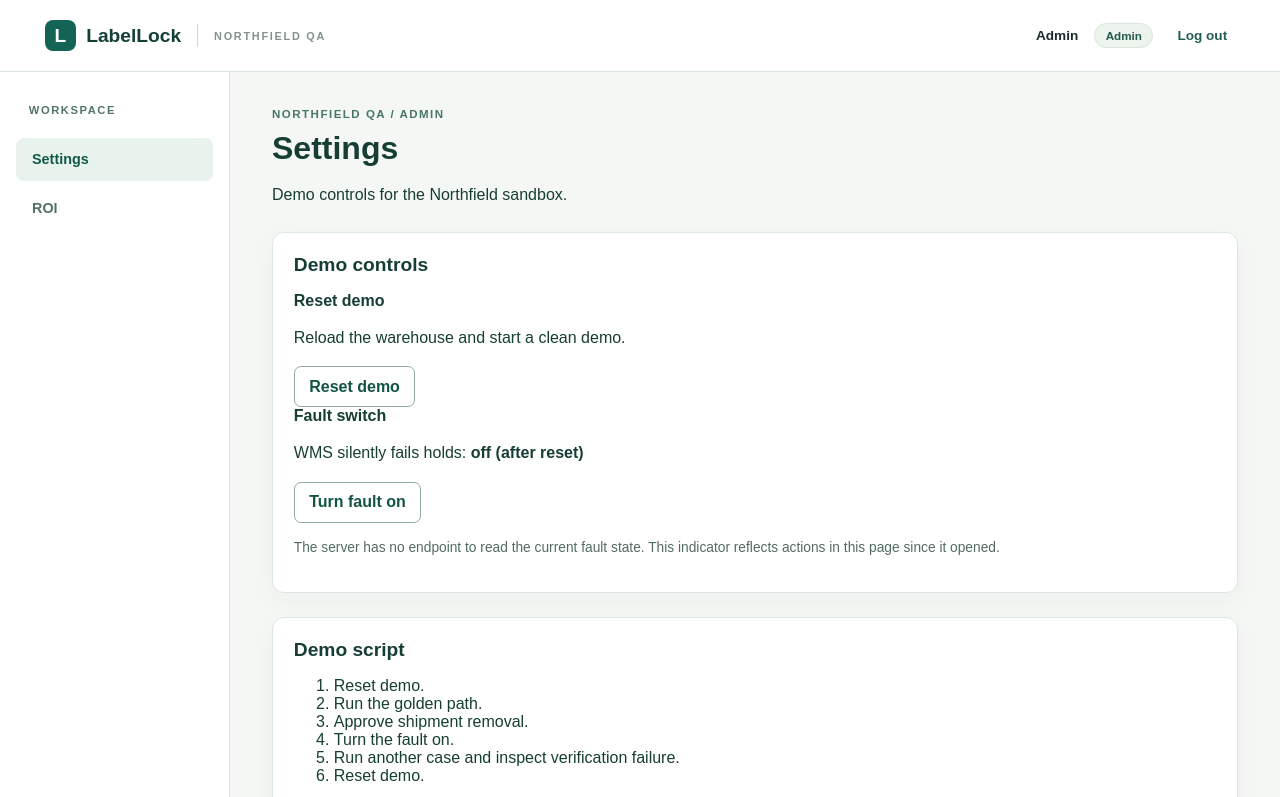
Test: demo settings › requires confirmation, supports cancel and clears fault on reset
Expected: the heading "Demo controls" is shown, [294,254,428,275]
Click the switch named "WMS silently fails holds". click: (358, 502)
box: [294,482,421,523]
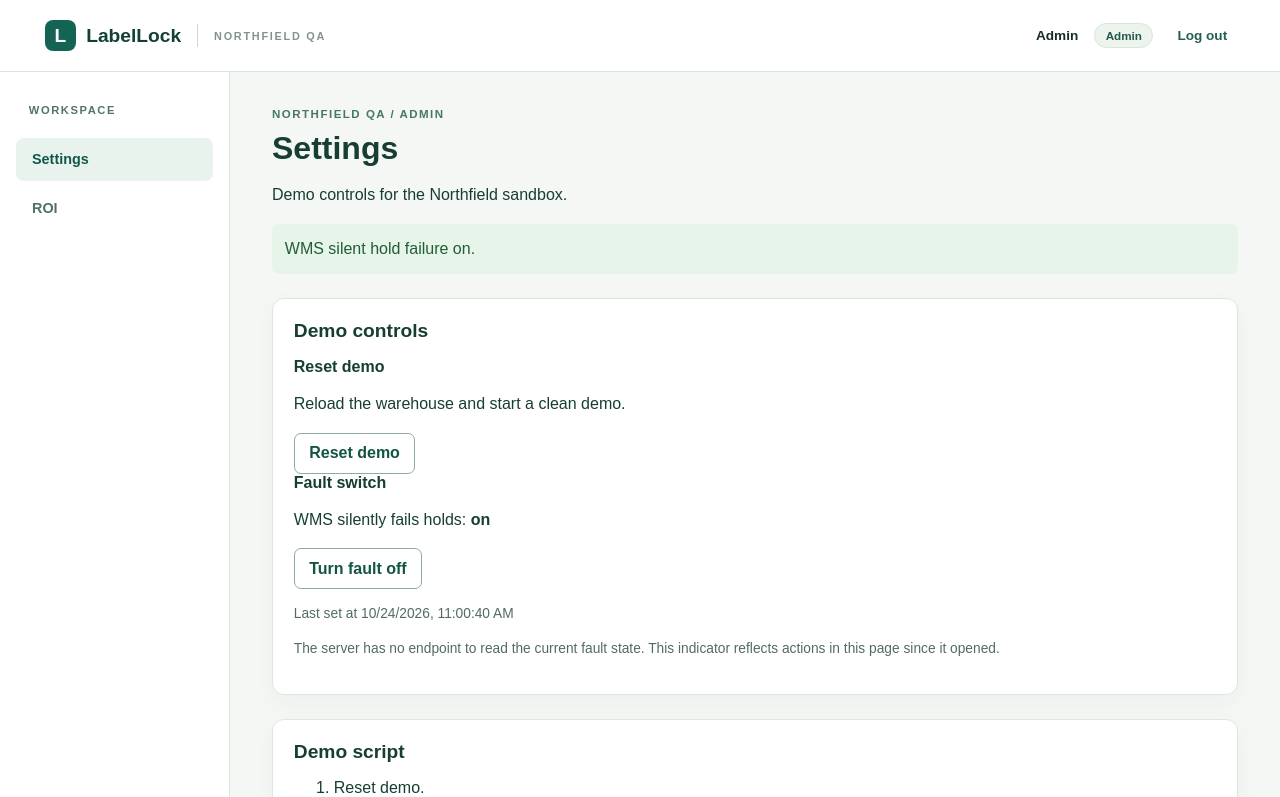
Now the text "WMS silent hold failure on." is shown, box [272,224,1238,274]
Click the button "Reset demo". click: (355, 453)
box: [294,433,415,474]
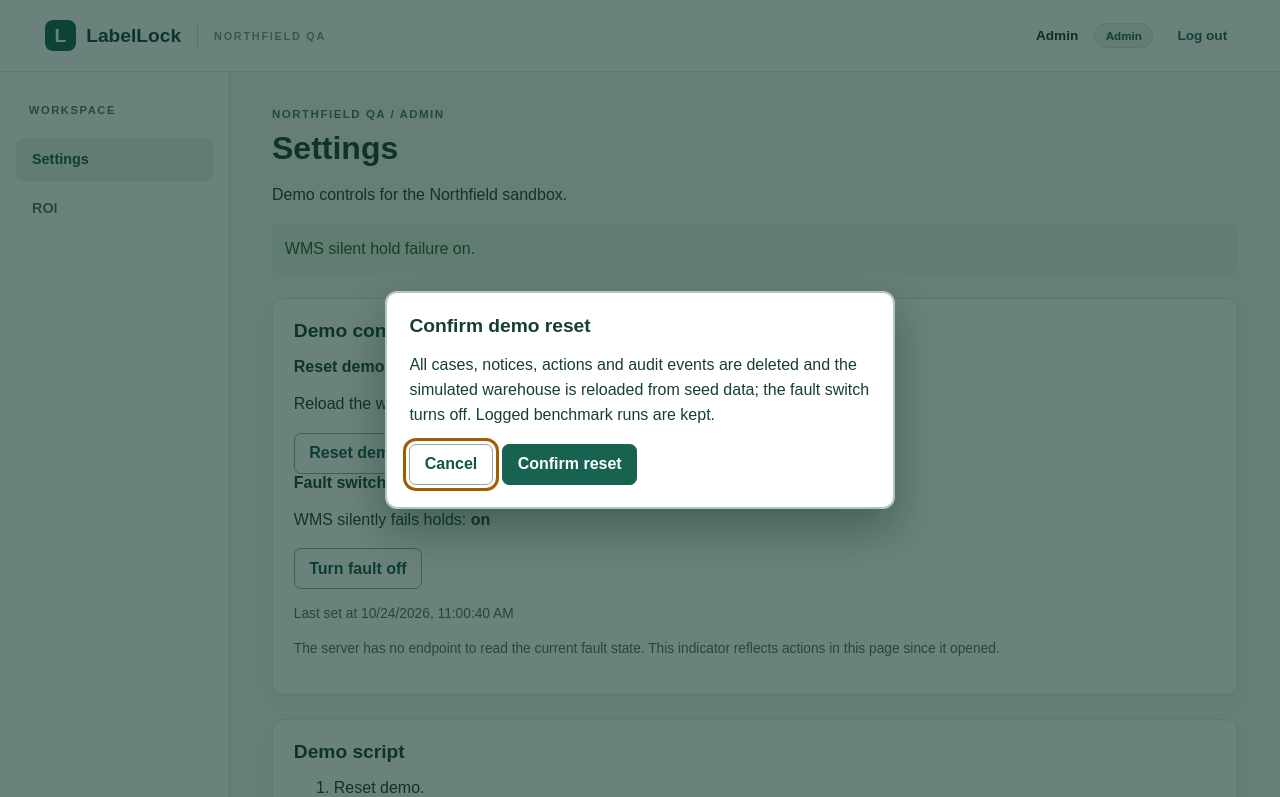
Now the dialog "Confirm demo reset" shows "All cases, notices, actions and audit events are deleted", box [409,356,869,423]
Click the button "Cancel". click: (451, 464)
box: [409,444,493,485]
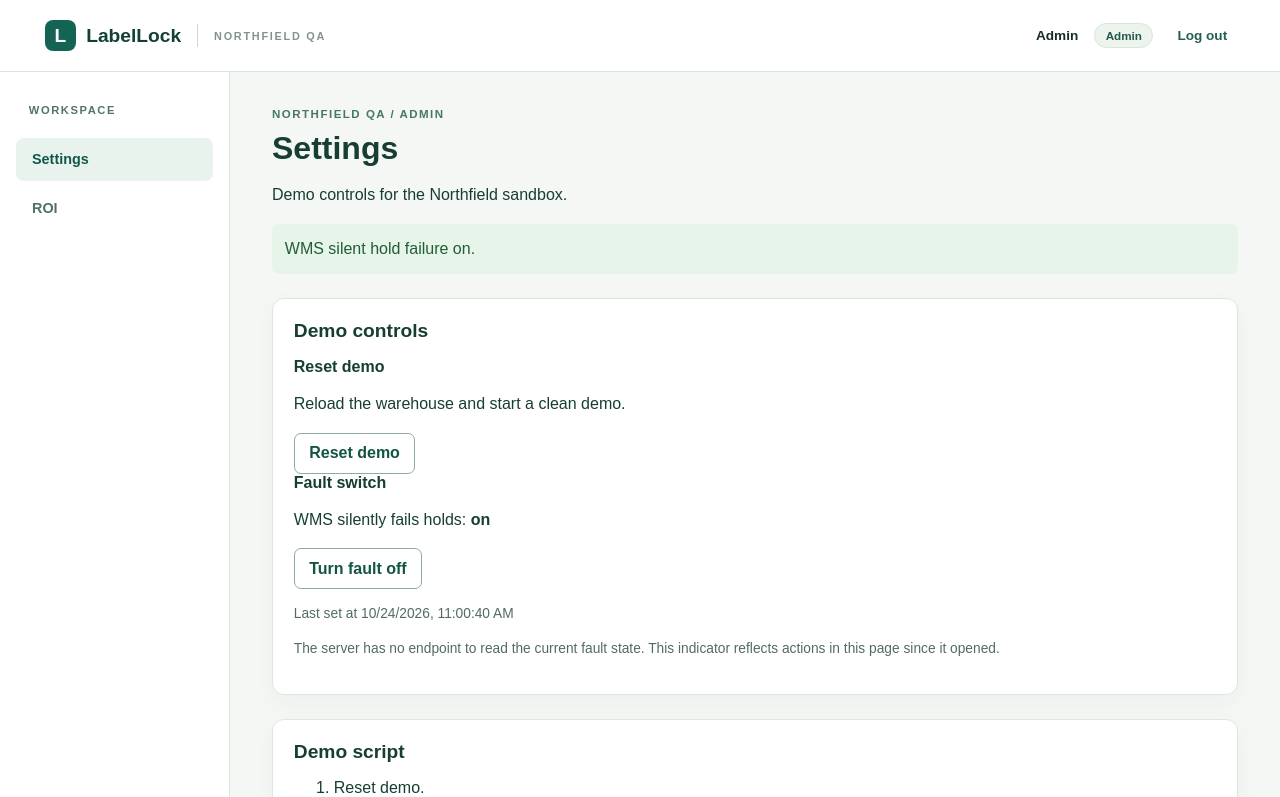
Now the switch is checked, box [294,548,422,589]
Click the button "Reset demo". click: (355, 453)
box: [294,433,415,474]
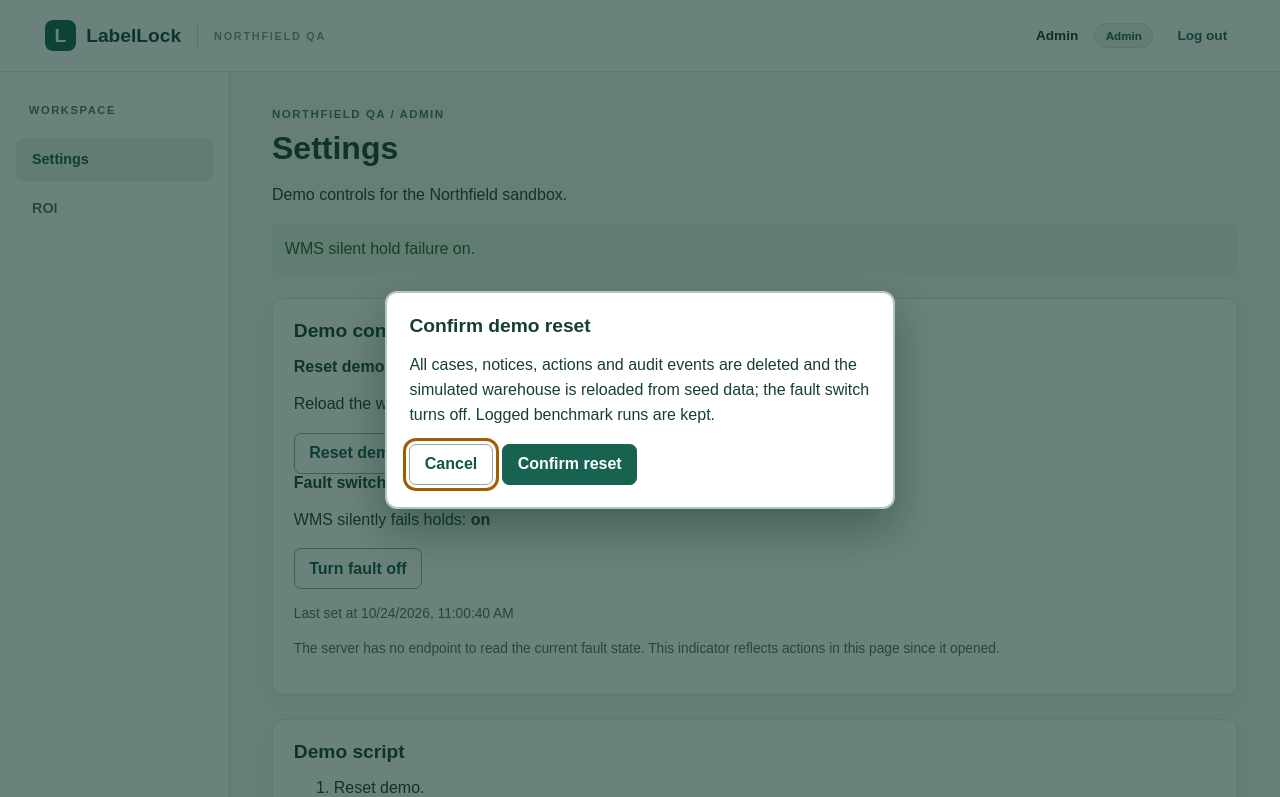
Click the button "Confirm reset". click: (570, 464)
box: [502,444,637,485]
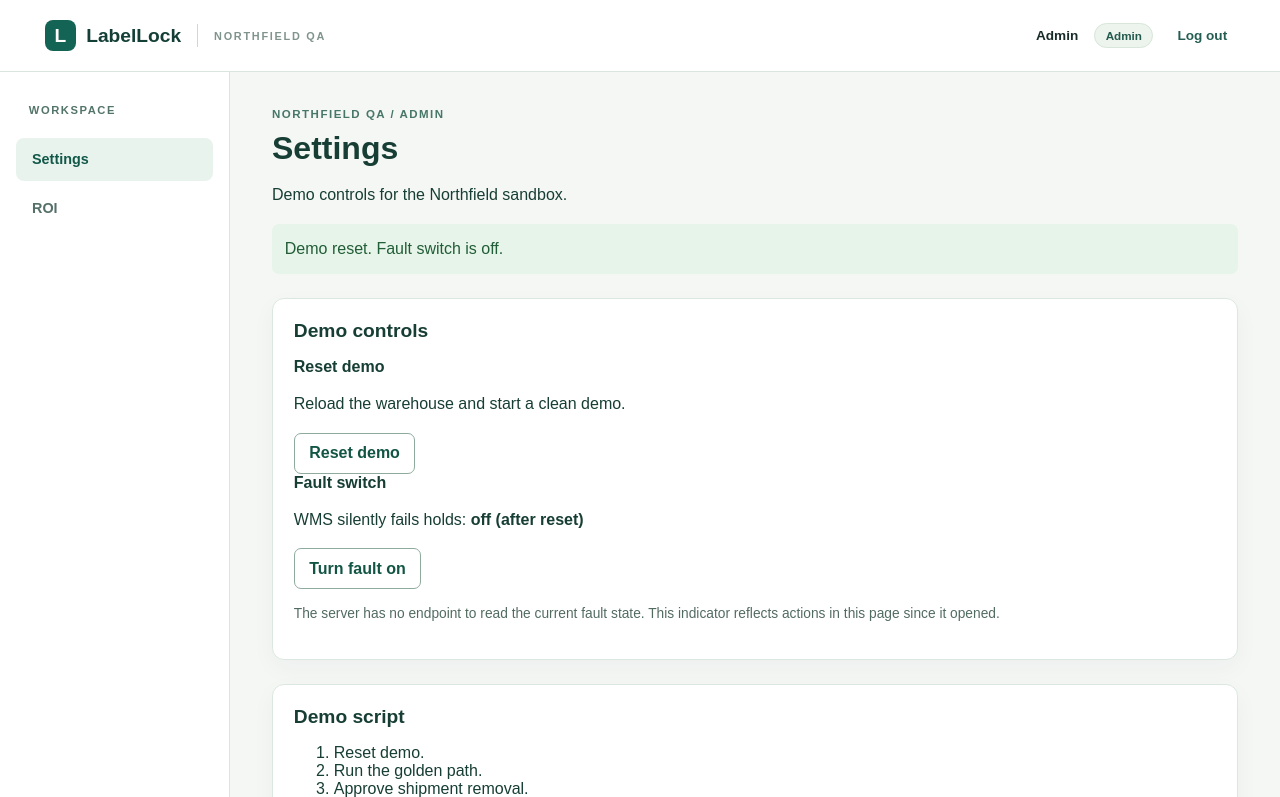
Now the text "Demo reset. Fault switch is off." is shown, box [272,224,1238,274]
